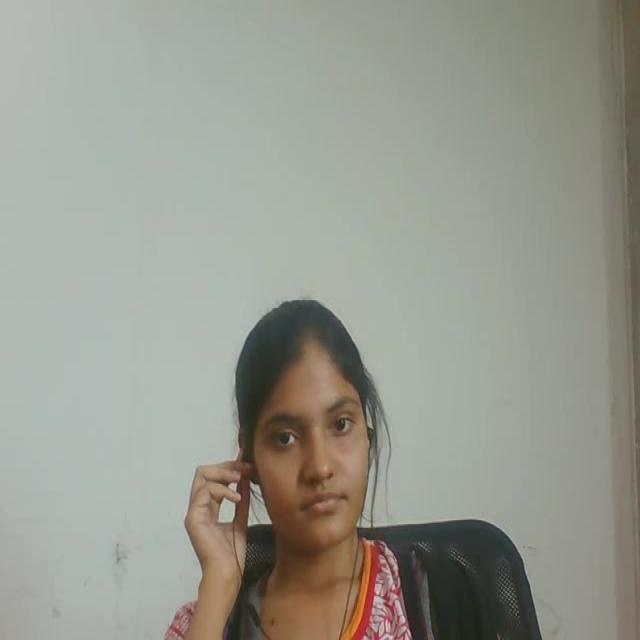Engaged: (196, 252, 403, 592)
